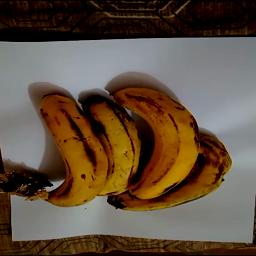Banana Unripe: (106, 73, 200, 219), (10, 82, 107, 210), (79, 75, 143, 213), (164, 99, 233, 216)
